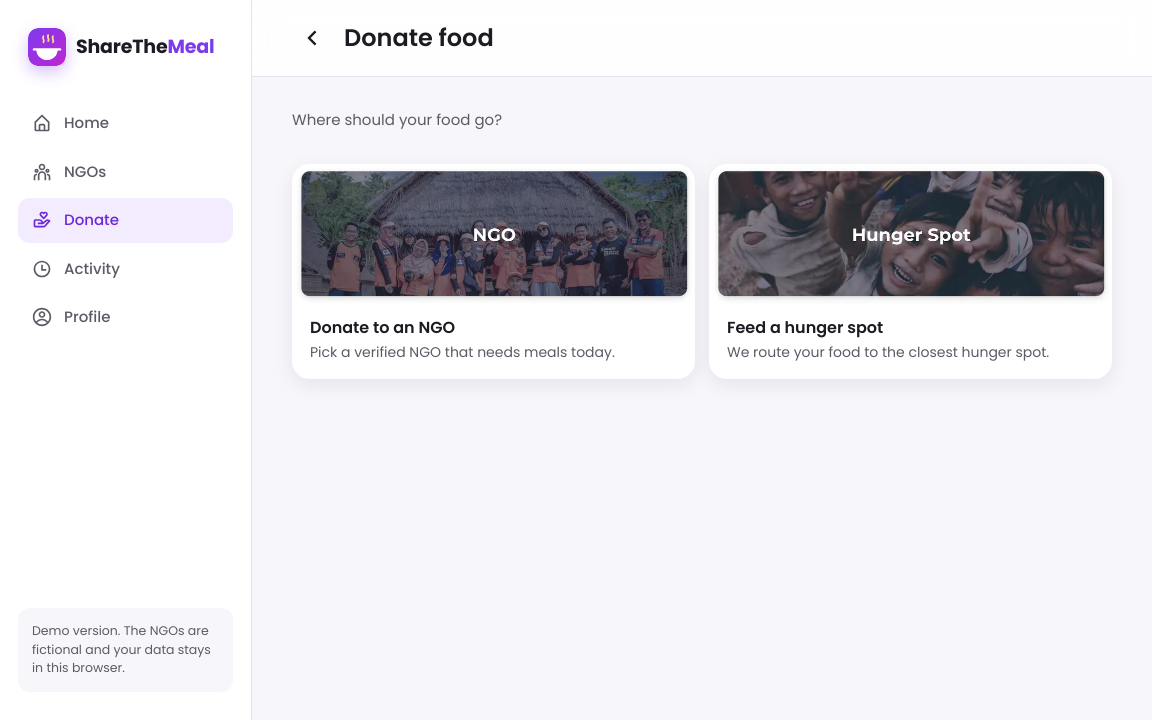
Test case: donating › can send food to a hunger spot
The image size is (1152, 720).
Step 1. Click the button "Feed a hunger spot" → (910, 271), box [709,164,1112,379]
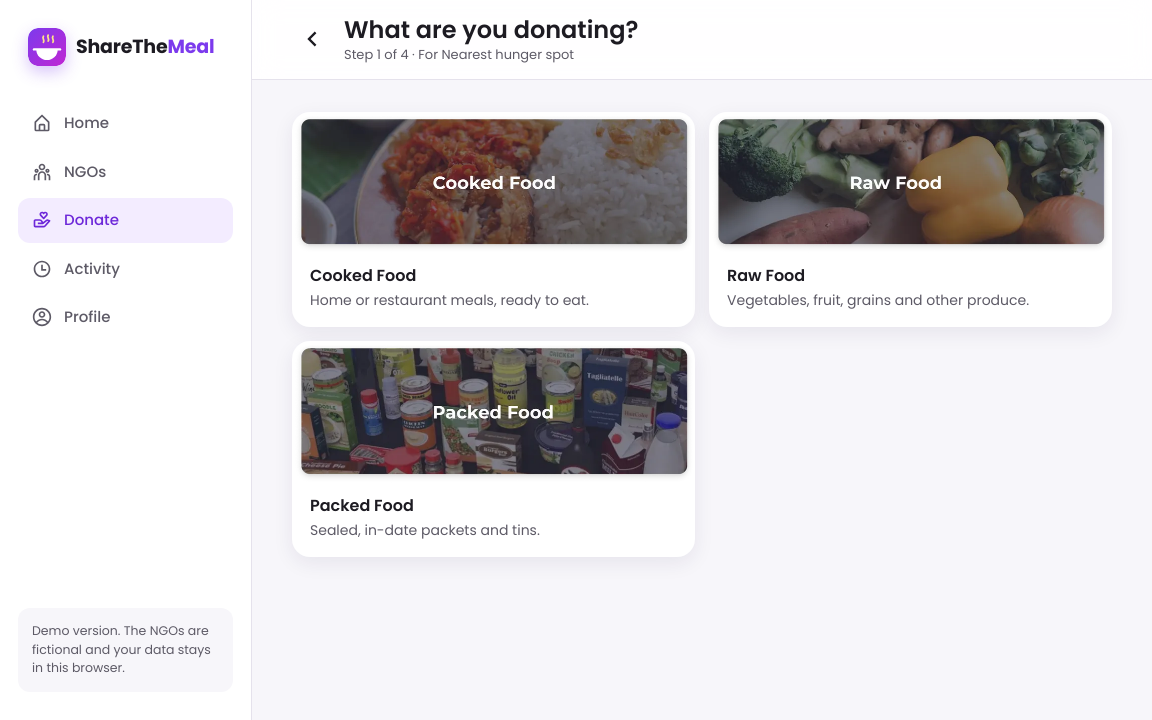
Expected: the text "Step 1 of 4 · For Nearest hunger spot" is shown, [344,45,574,64]
